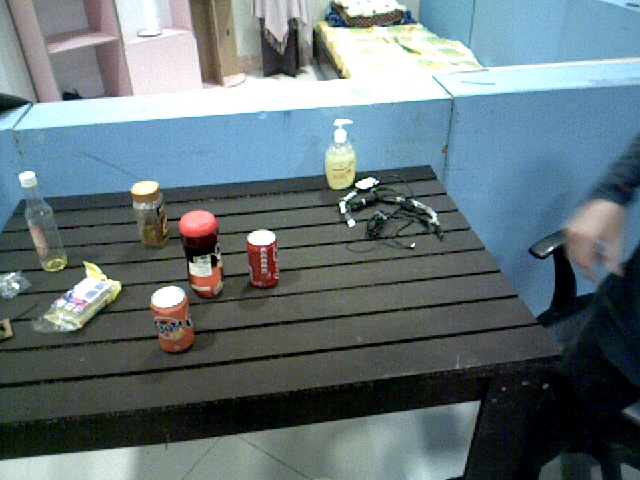coca: (247, 231, 278, 291)
coffee: (130, 182, 172, 248)
cream: (179, 209, 226, 299)
fanta: (153, 286, 196, 356)
